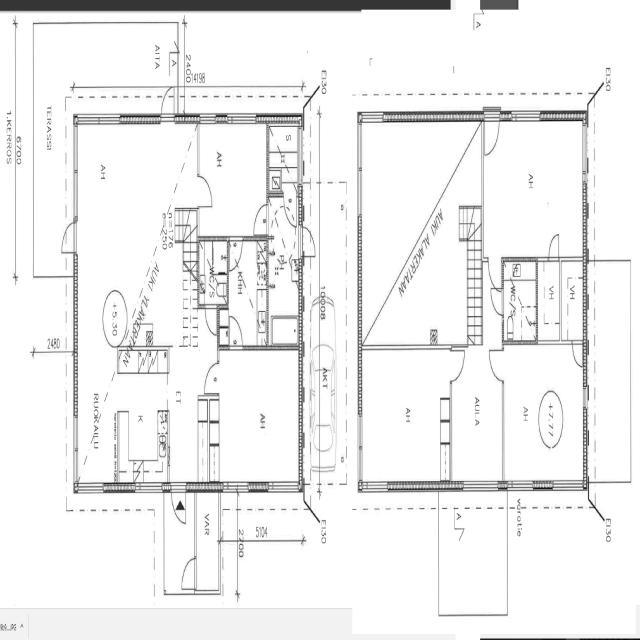door: (482, 110, 502, 157), (169, 480, 188, 527), (196, 167, 215, 210), (487, 341, 506, 383), (59, 214, 78, 256), (449, 340, 467, 383), (179, 552, 198, 592), (160, 80, 177, 121), (202, 357, 220, 394), (282, 187, 298, 227), (489, 283, 506, 319), (251, 198, 268, 233), (488, 254, 503, 293), (228, 234, 243, 272), (229, 310, 244, 347), (546, 228, 562, 262), (203, 302, 218, 337), (570, 336, 585, 370), (300, 224, 314, 258)
window: (354, 118, 366, 220), (70, 116, 80, 222), (461, 473, 500, 497), (355, 402, 365, 486), (266, 474, 300, 498), (580, 121, 591, 185), (510, 103, 542, 124), (362, 475, 391, 498), (136, 475, 165, 495), (72, 408, 80, 477), (77, 478, 106, 496), (223, 477, 252, 495), (229, 110, 257, 127), (96, 110, 122, 128), (360, 110, 384, 128), (511, 473, 534, 491), (199, 110, 221, 127)
zone: (76, 117, 202, 484), (359, 115, 482, 347), (482, 117, 584, 257), (358, 346, 452, 490), (501, 336, 586, 479), (218, 347, 304, 485), (198, 118, 268, 235), (449, 342, 503, 482), (266, 193, 300, 344), (226, 238, 268, 346), (503, 257, 538, 342), (193, 486, 220, 594), (560, 254, 586, 342), (266, 120, 300, 187), (199, 236, 229, 306), (537, 256, 560, 342)
